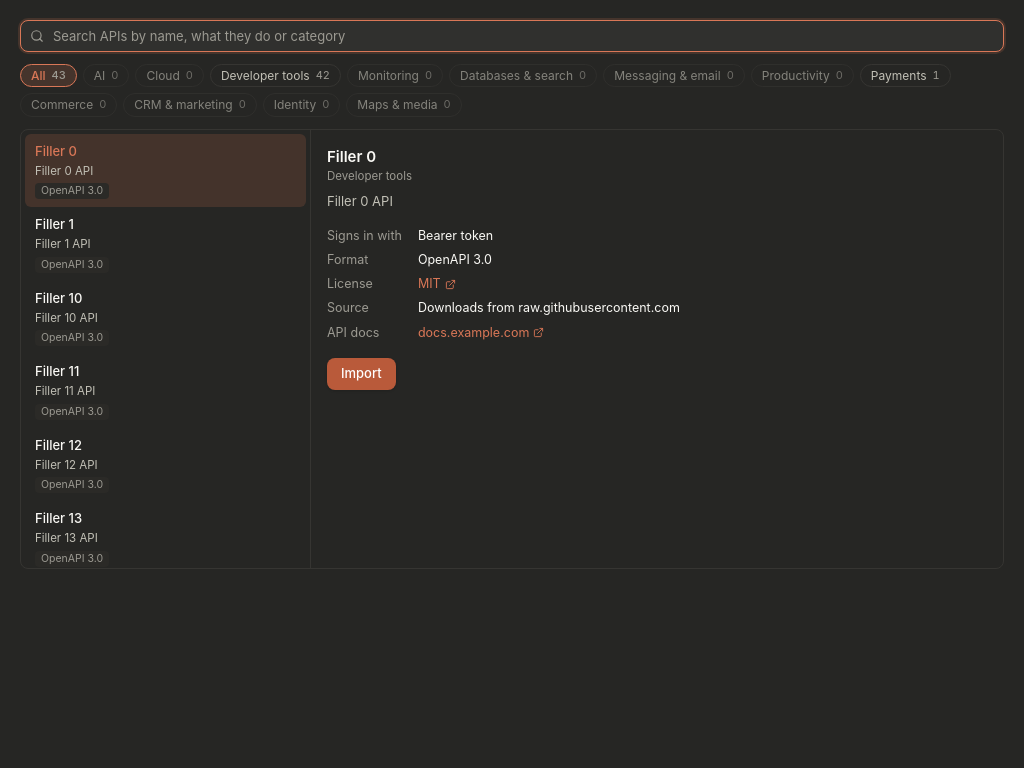
Test: the list › says when nothing matches, outside the list of options
The image size is (1024, 768).
Step 1. Type "nothing is called this" into the field labelled "Search APIs" → (512, 36), box [20, 20, 1004, 52]
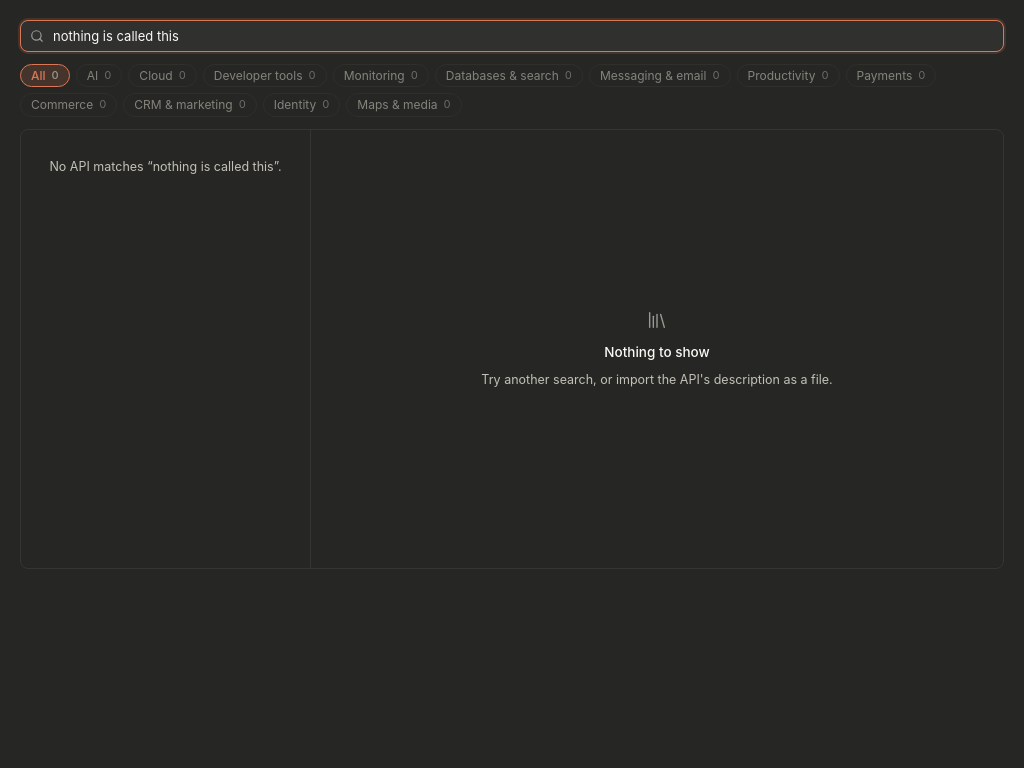
Now the message shows "No API matches “nothing is called this”", box [49, 159, 282, 174]
